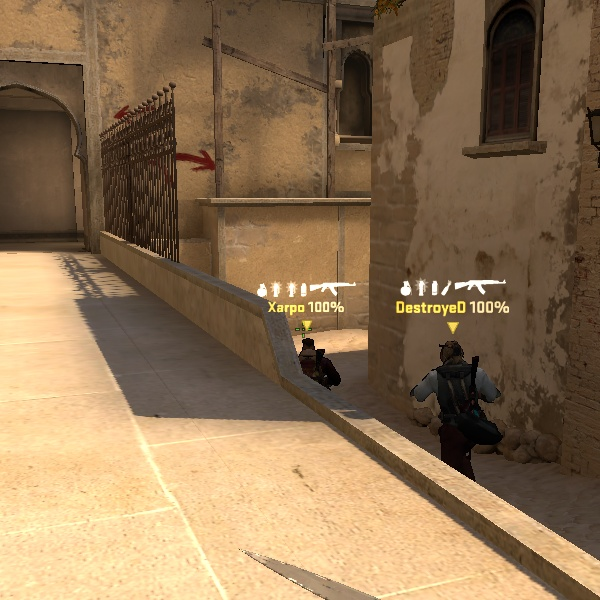t_body: (398, 334, 509, 474), (294, 335, 345, 391)
t_head: (431, 335, 470, 371), (297, 335, 320, 358)
